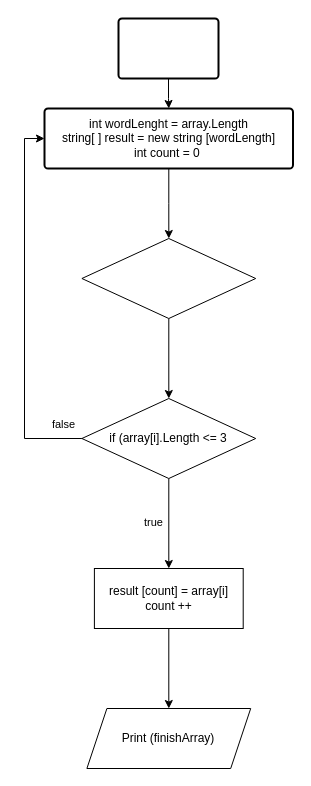
Image size: 311x786. Some labels were removed from this diagram. Here are the shapes that lost their labels. From the top down, the centre of each, then its label:
At (x=168, y=48): "string [ ] arr1 string [ ] arr2 string [ ] arr3".
At (x=168, y=278): "for ( int i = 0; i < wordLength; i ++".
